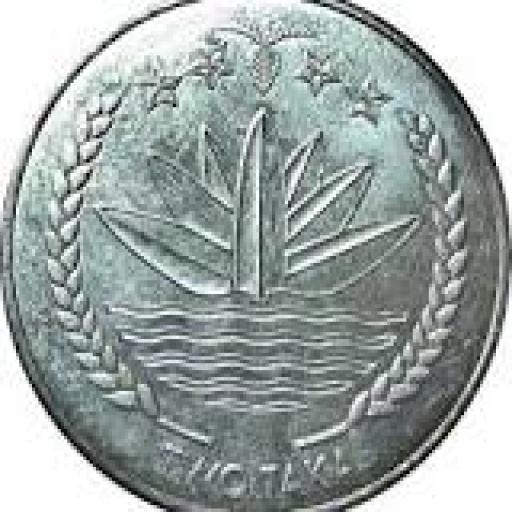2taka: (0, 0, 509, 509)
